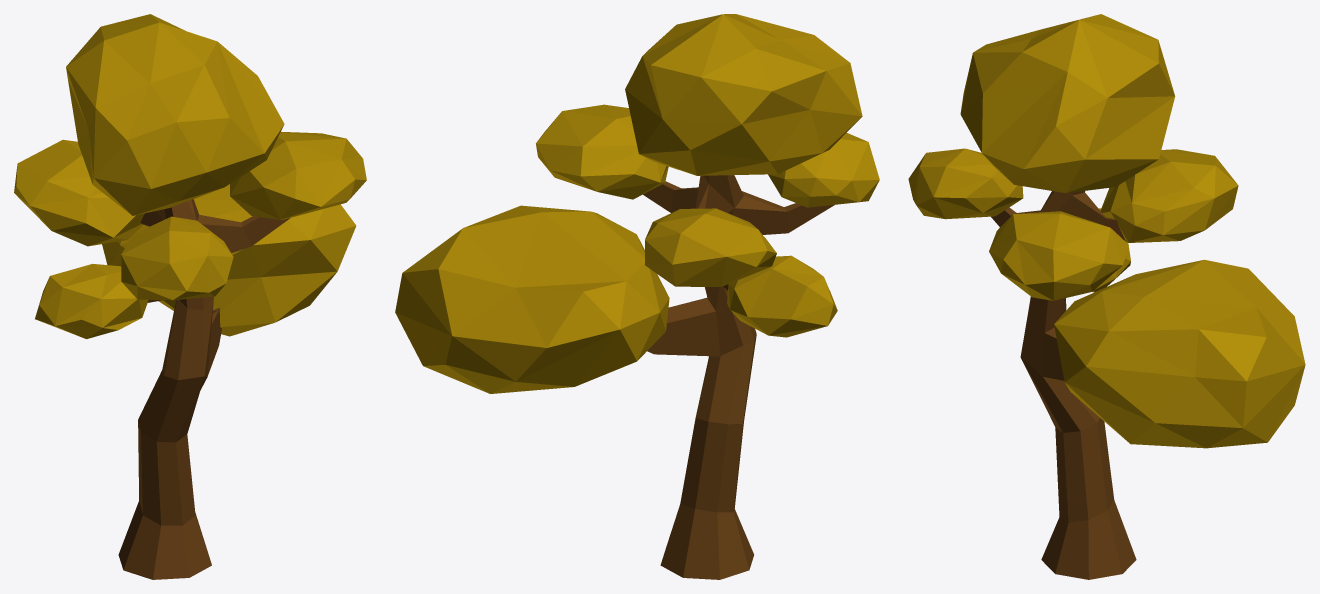
The model's file is co_Tree02_B.fbx.
3 renders of one model, left to right at view 1: azimuth 30°, elevation 25°; view 2: azimuth 150°, elevation 25°; view 3: azimuth 270°, elevation 25°, orthographic.
Parts seen in each view (by area): view 1: Tree02_B_LOD0; view 2: Tree02_B_LOD0; view 3: Tree02_B_LOD0.
Boxes of the visible parts, x1,y1,x2,y2 form: Tree02_B_LOD0: (14,14,366,579); Tree02_B_LOD0: (395,14,879,579); Tree02_B_LOD0: (908,14,1305,579).
Size of what is drawn, in the model's own units: 16.42 by 23.75 by 15.99.
